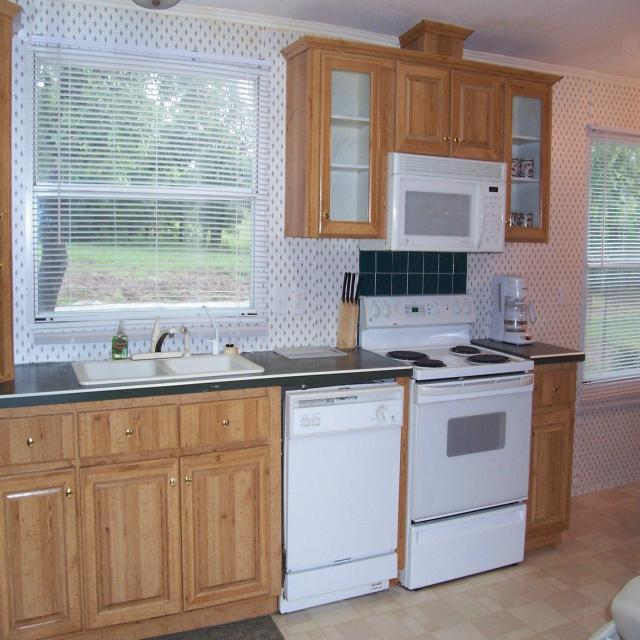dishwasher: (284, 378, 404, 610)
